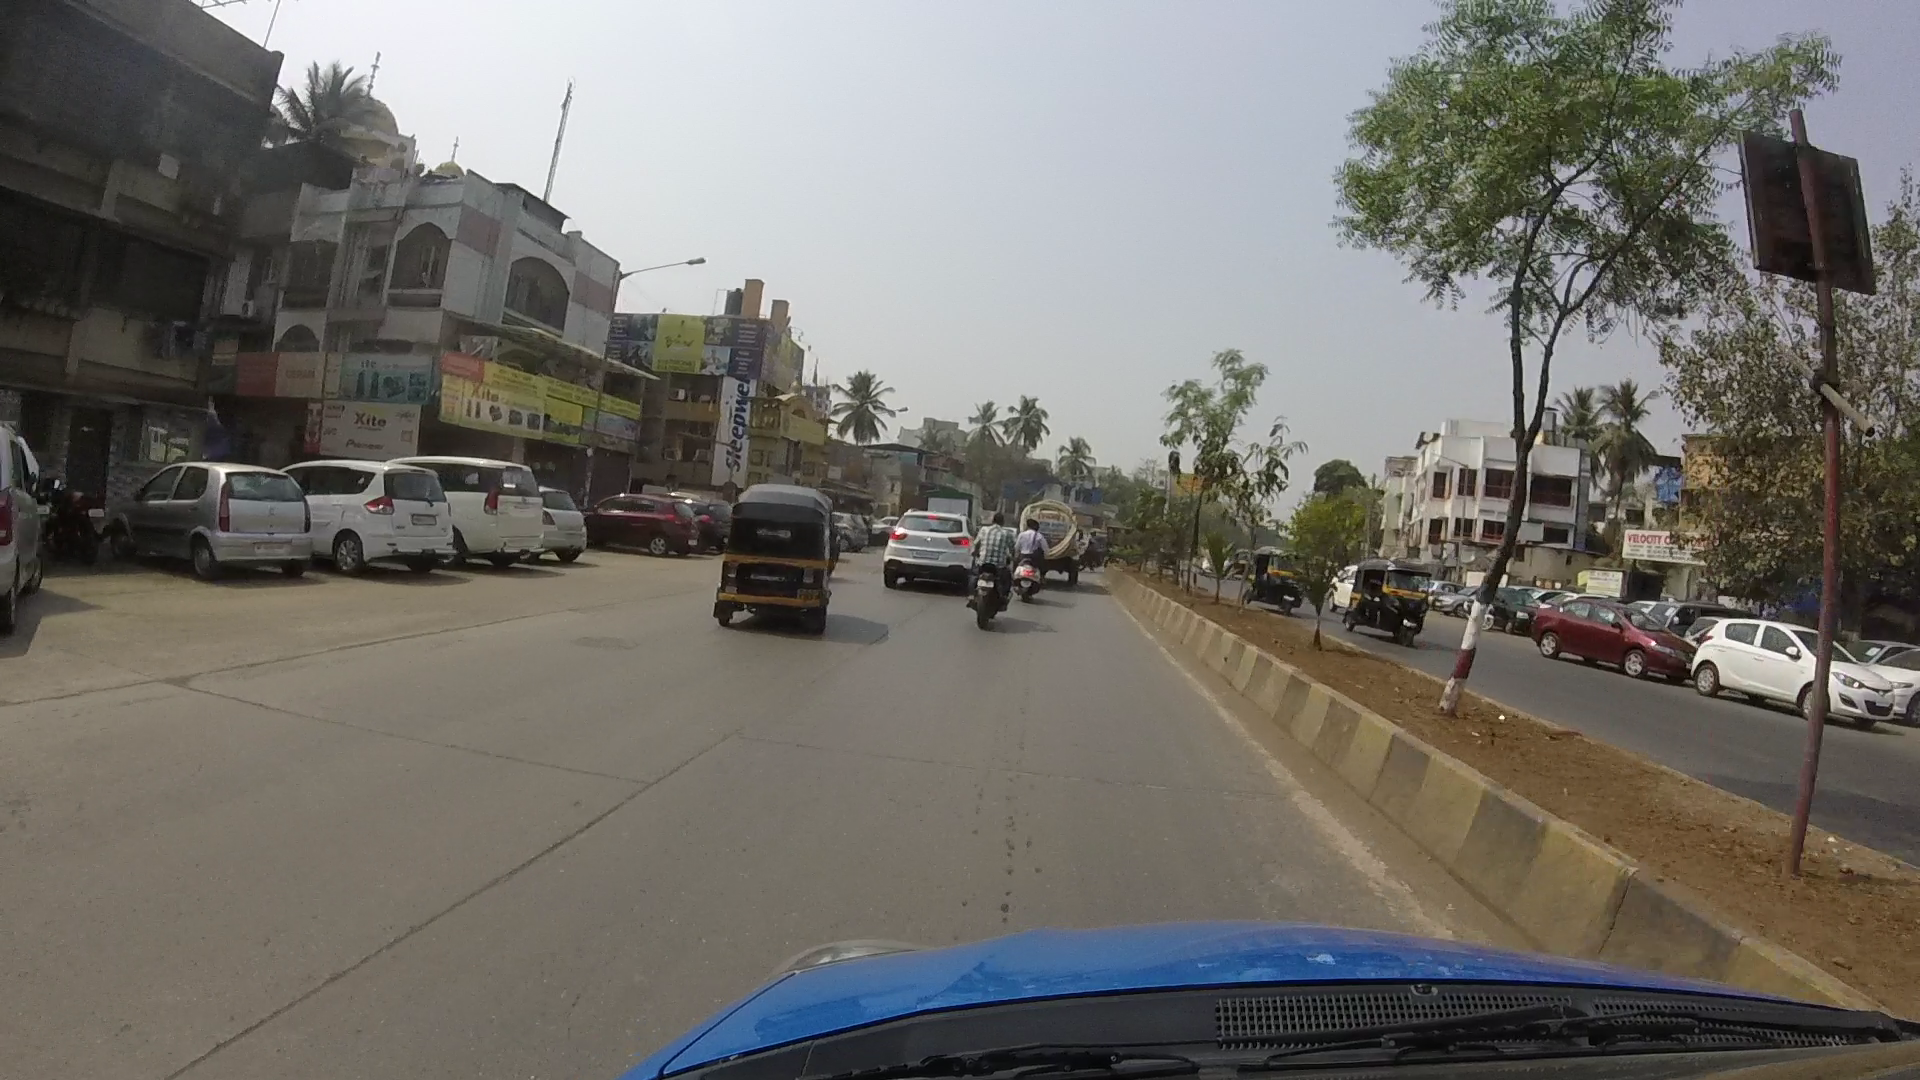bike/scooter: (949, 513, 1013, 624), (1005, 527, 1048, 592)
car: (140, 454, 311, 578), (281, 460, 452, 580), (402, 454, 541, 556), (881, 506, 981, 592)
rickshaw: (719, 477, 840, 636), (1218, 535, 1316, 604), (1346, 560, 1416, 642)
